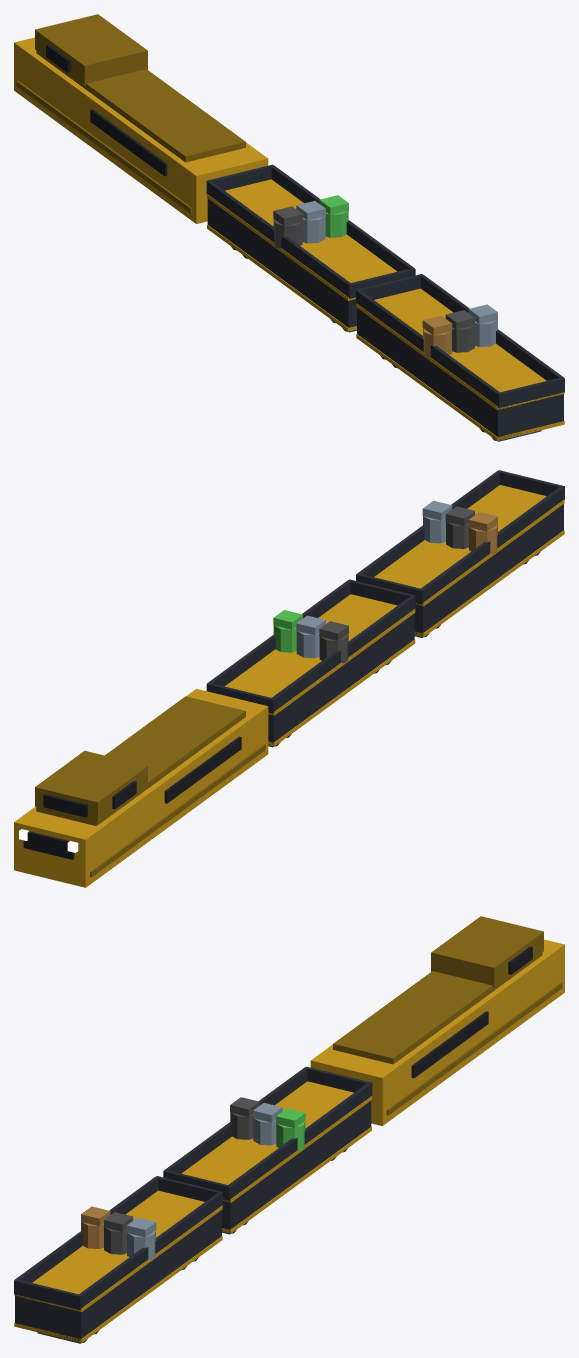
Rendered from train.glb.
3 renders of one model, top to bottom at view 1: azimuth 30°, elevation 25°; view 2: azimuth 150°, elevation 25°; view 3: azimuth 330°, elevation 25°, orthographic.
Visible parts, largest first — view 1: loco_body, loco_roof, wagon_body.001, loco_cab, wagon_band_t.001, wagon_band_t, wagon_body, wagon_wall_side, wagon_wall_side.002, wagon_wall_side.001, wagon_wall_side.003, loco_stripe_l (+13 smaller); view 2: loco_body, loco_roof, wagon_band_t, wagon_band_t.001, loco_cab, wagon_body.001, wagon_body, wagon_wall_side.002, wagon_wall_side, wagon_wall_side.001, wagon_wall_side.003, loco_stripe_l (+15 smaller); view 3: loco_body, loco_roof, wagon_body.001, loco_cab, wagon_band_t.001, wagon_band_t, wagon_body, wagon_wall_side.001, wagon_wall_side.003, wagon_wall_side, wagon_wall_side.002, loco_stripe_r (+13 smaller).
Part boxes in pixels (x1,y1,x2,y2): loco_body: (14, 37, 268, 223); loco_roof: (36, 50, 245, 162); wagon_body.001: (357, 308, 563, 439); loco_cab: (35, 14, 147, 85); wagon_band_t.001: (356, 288, 564, 410); wagon_band_t: (207, 179, 396, 300); wagon_body: (207, 198, 356, 327); wagon_wall_side: (207, 181, 351, 296); wagon_wall_side.002: (356, 290, 500, 406); wagon_wall_side.001: (271, 165, 414, 271); wagon_wall_side.003: (420, 275, 563, 380); loco_stripe_l: (16, 80, 192, 213); loco_body: (14, 688, 268, 887); loco_roof: (36, 696, 245, 825); wagon_band_t: (225, 594, 415, 715); wagon_band_t.001: (374, 485, 564, 606); loco_cab: (35, 750, 147, 821); wagon_body.001: (414, 504, 563, 635); wagon_body: (268, 613, 414, 743); wagon_wall_side.002: (420, 486, 564, 603); wagon_wall_side: (271, 595, 414, 711); wagon_wall_side.001: (207, 580, 350, 686); wagon_wall_side.003: (357, 471, 499, 576); loco_stripe_l: (90, 744, 265, 877); loco_body: (310, 939, 564, 1125); loco_roof: (333, 952, 542, 1064); wagon_body.001: (15, 1210, 221, 1341); loco_cab: (431, 916, 543, 987); wagon_band_t.001: (14, 1190, 222, 1312); wagon_band_t: (182, 1081, 371, 1202); wagon_body: (222, 1100, 371, 1232); wagon_wall_side.001: (227, 1083, 371, 1199); wagon_wall_side.003: (78, 1192, 222, 1308); wagon_wall_side: (164, 1067, 307, 1173); wagon_wall_side.002: (15, 1177, 158, 1282); loco_stripe_r: (386, 982, 562, 1115).
Bounding box in the file's own units: 5.35 × 5.6 × 58.45.
